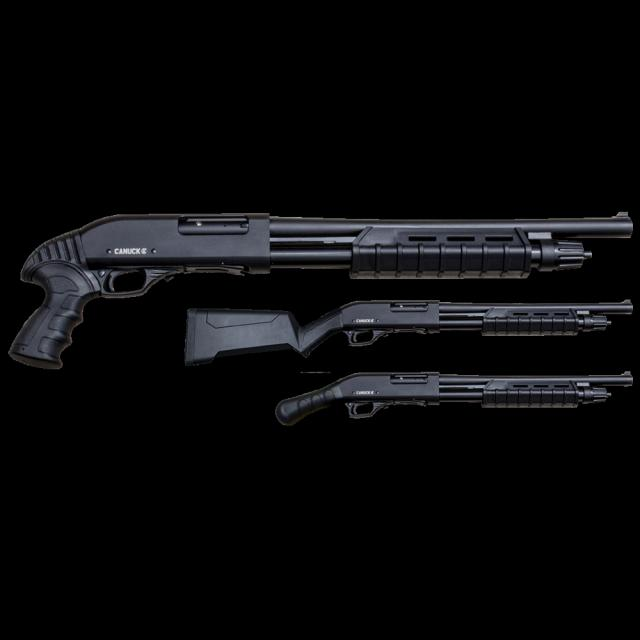ShotGun: (8, 214, 632, 371), (185, 300, 632, 367), (273, 372, 632, 428)
